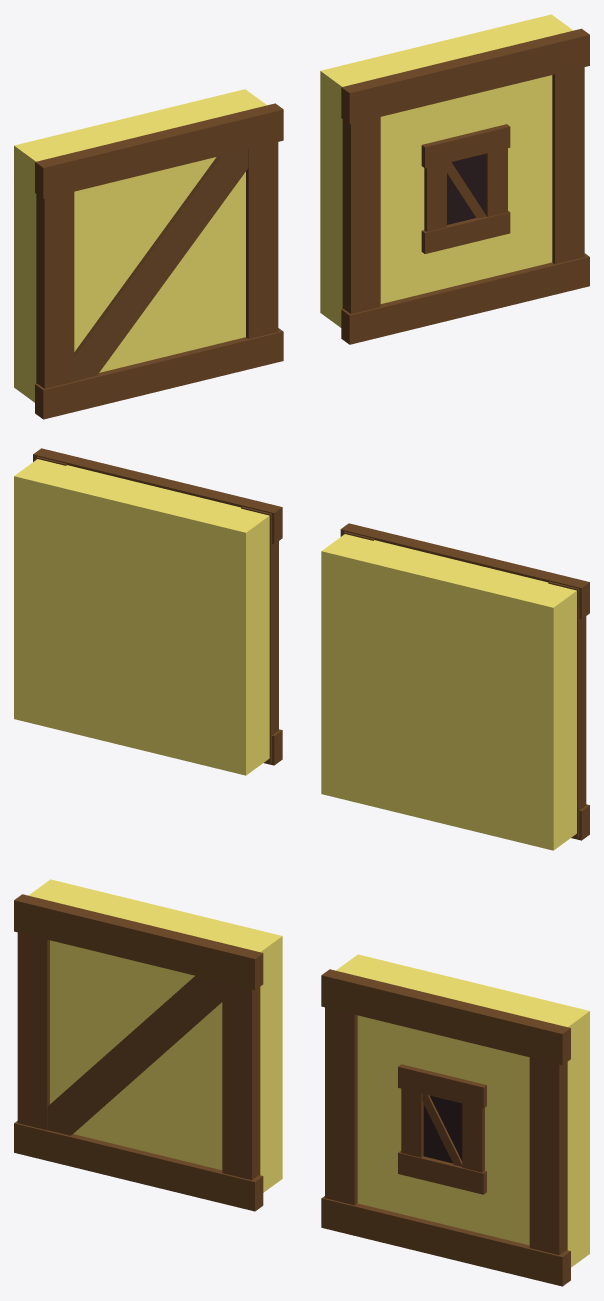
The model's file is Wall_home.fbx.
3 renders of one model, top to bottom at view 1: azimuth 30°, elevation 25°; view 2: azimuth 150°, elevation 25°; view 3: azimuth 330°, elevation 25°, orthographic.
Visible parts, largest first — view 1: Wall_home_2, Wall_home; view 2: Wall_home, Wall_home_2; view 3: Wall_home, Wall_home_2.
Boxes of the visible parts, left/top/right/bottom form: Wall_home_2: left=320, top=14, right=589, bottom=344; Wall_home: left=14, top=89, right=283, bottom=419; Wall_home: left=321, top=523, right=589, bottom=850; Wall_home_2: left=14, top=448, right=282, bottom=775; Wall_home: left=14, top=879, right=282, bottom=1211; Wall_home_2: left=321, top=954, right=589, bottom=1286.
Size of the model in its own units: 4.73 by 2.08 by 0.4929.
